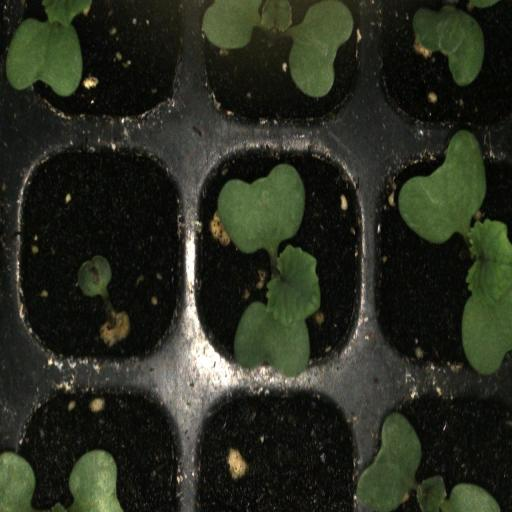Folha: (6, 0, 92, 97), (413, 5, 484, 86)
Germinacao: (10, 128, 194, 372), (192, 127, 369, 377), (368, 129, 512, 385), (192, 0, 371, 126), (368, 373, 512, 512)
